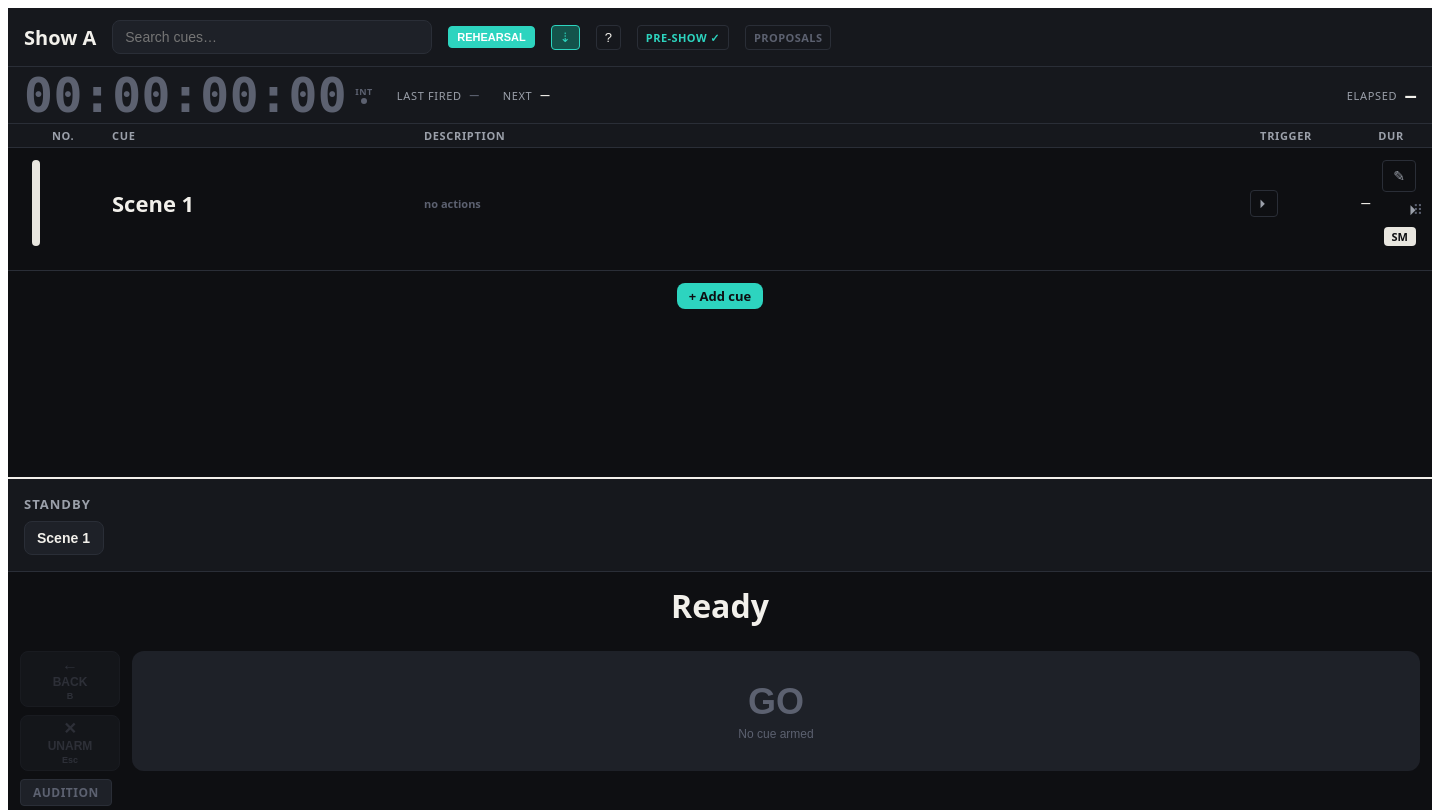
Test: SMMasterView › inline editing shortcuts (N/L/D/O) › N key on selected row in rehearsal opens cue_number inline edit
The image size is (1440, 810).
# Click to select the first row
Click the row. click: {"x": 720, "y": 210}
box: [8,148,1432,271]
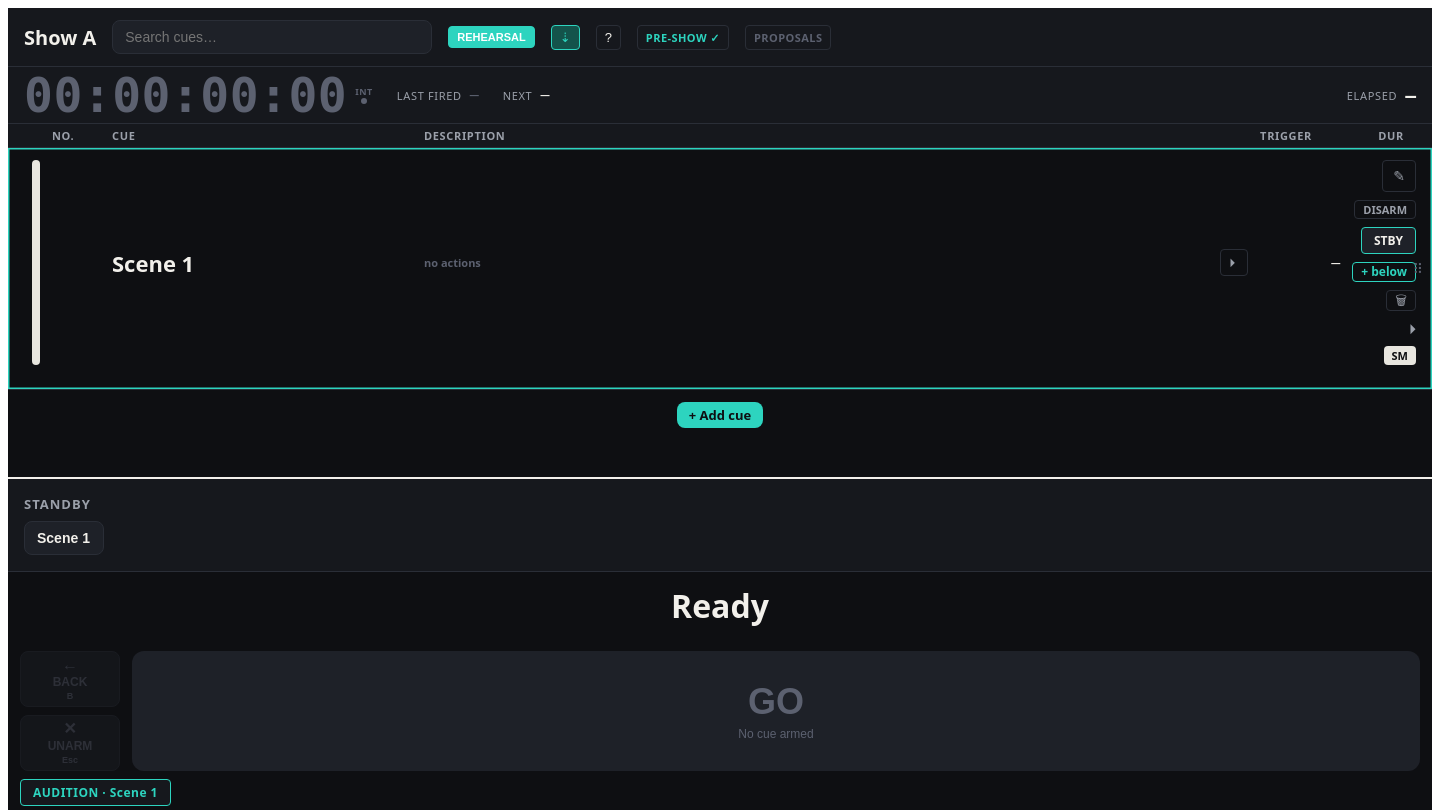
Press KeyN
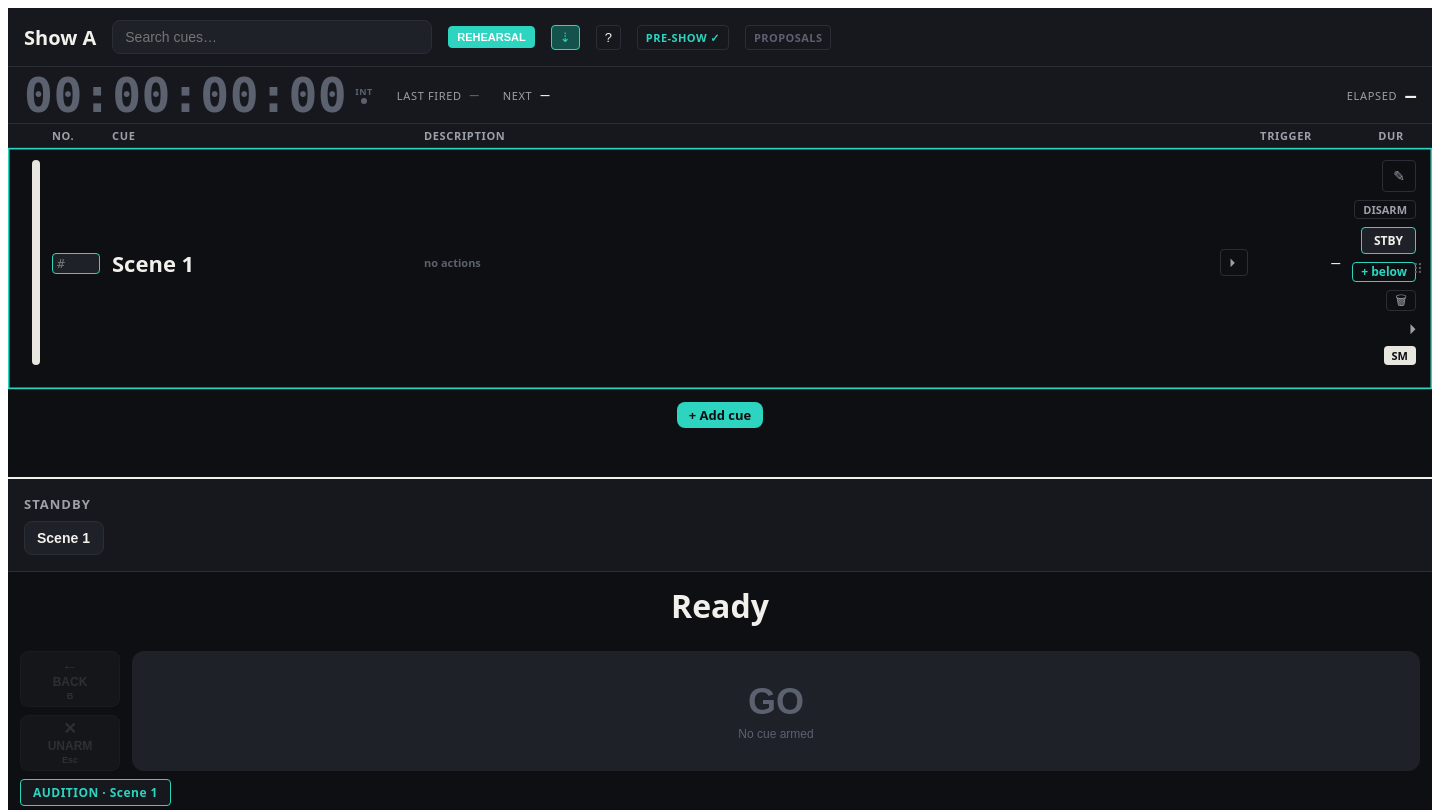
Result: the field with test id "inline-edit-input" is shown at [52,253,100,274]
